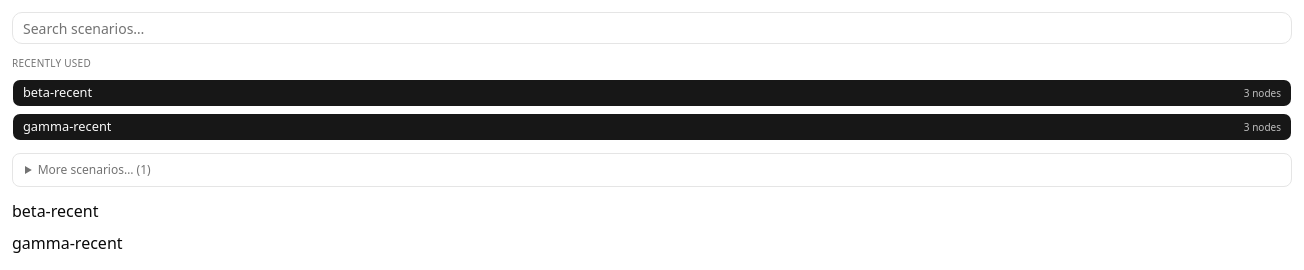
ScenariosList (VROL-789) › filters the FULL list — primaries hide when they don't match
Type "alpha" into the search field with test id "scenario-search" at point(652, 28), box [12,12,1292,44]
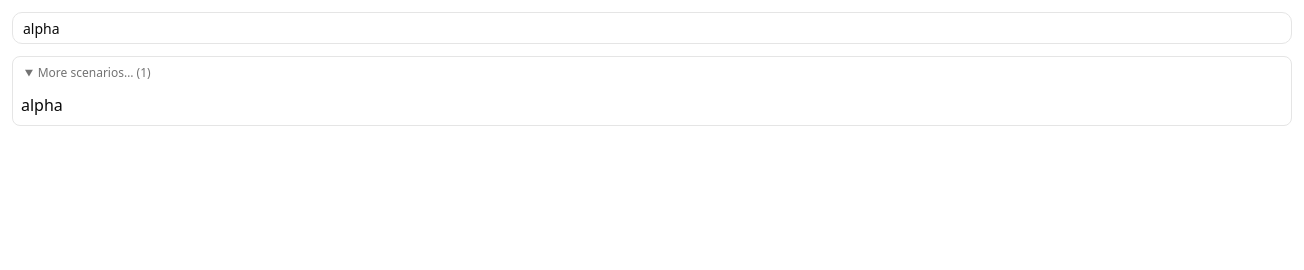
Result: the element with test id "scenarios-primary" is gone
Result: the text "alpha" is shown at [21,94,63,116]
